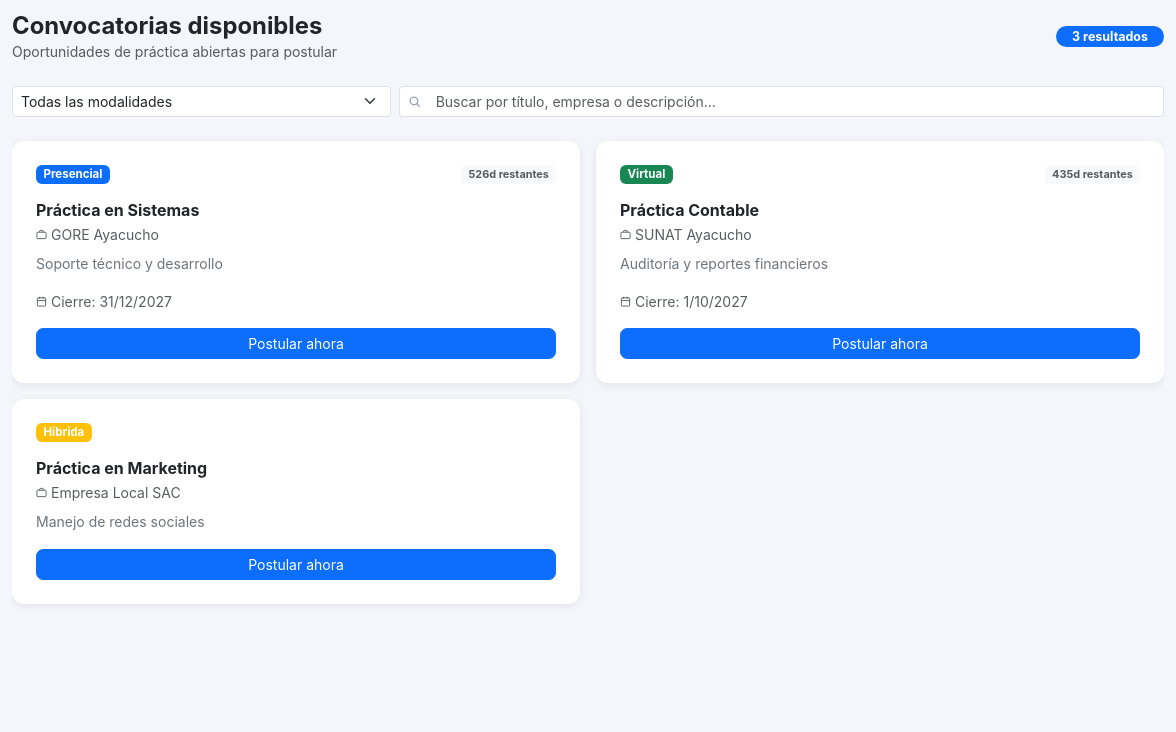
Scenario: Convocatorias — filtros › filtra por modalidad "Virtual" y muestra solo 1 resultado
This screenshot has width=1176, height=732.
Select "Virtual" in the dropdown named "Filtrar por modalidad": (201, 101) x1=12 y1=86 x2=391 y2=117
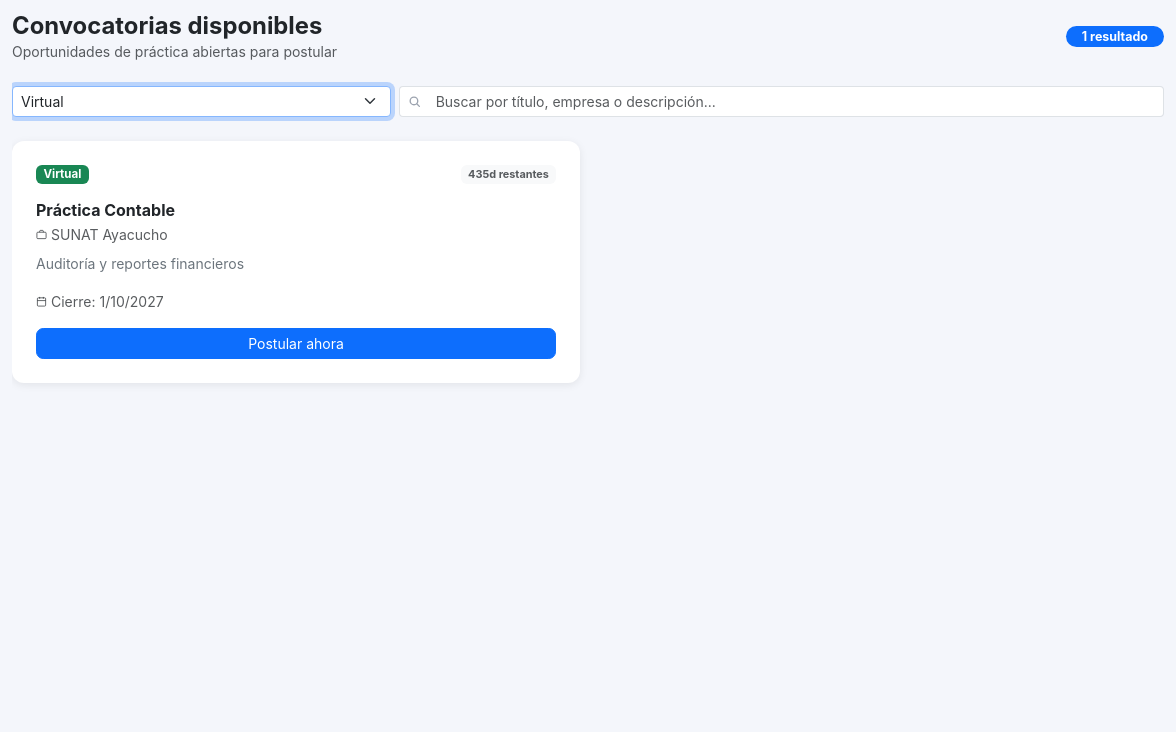
Expected: the heading "Práctica Contable" is shown, x1=36 y1=200 x2=175 y2=220
Expected: the heading "Práctica en Sistemas" is gone
Expected: the heading "Práctica en Marketing" is gone
